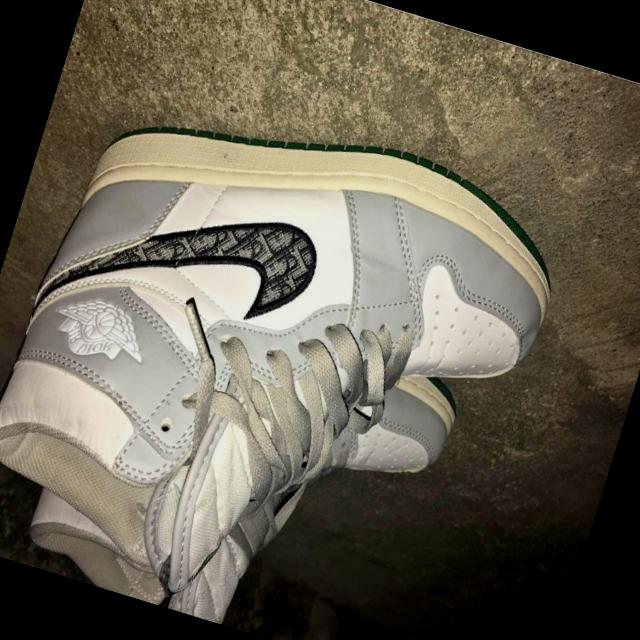nike_fake_jordan: (0, 49, 584, 640)
